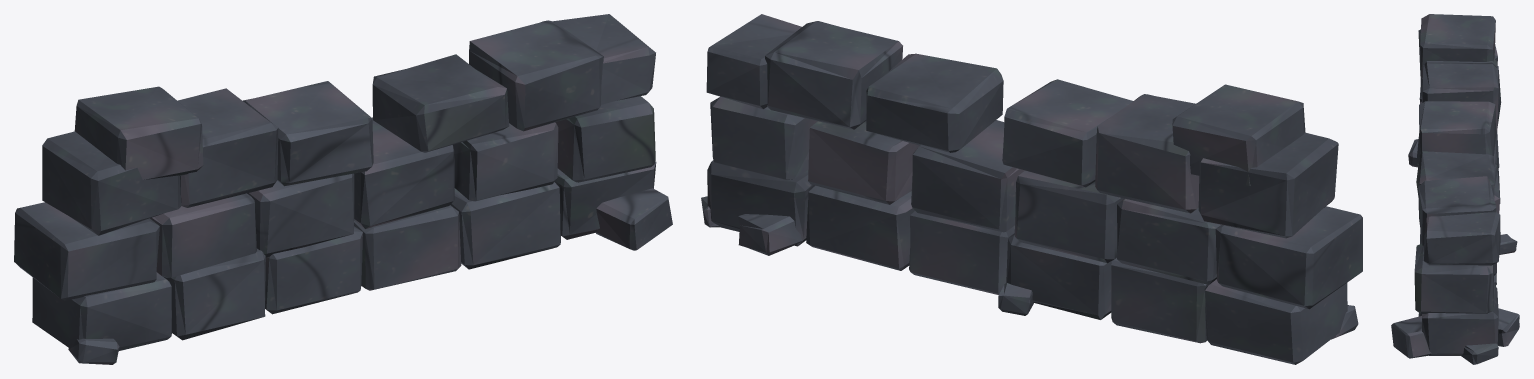
The model's file is ruin_wall_low_b_blockout.glb.
3 renders of one model, left to right at view 1: azimuth 30°, elevation 25°; view 2: azimuth 150°, elevation 25°; view 3: azimuth 270°, elevation 25°, orthographic. The views are drawn at different scales.
Parts seen in each view (by area): view 1: ruin_wall_low_b; view 2: ruin_wall_low_b; view 3: ruin_wall_low_b.
Boxes of the visible parts, x1,y1,x2,y2 form: ruin_wall_low_b: (14,14,672,364); ruin_wall_low_b: (701,14,1362,364); ruin_wall_low_b: (1391,14,1519,364).
Size of the model in its own units: 4 by 1.4 by 1.01.
Materials: 1 (1 with a texture image).
